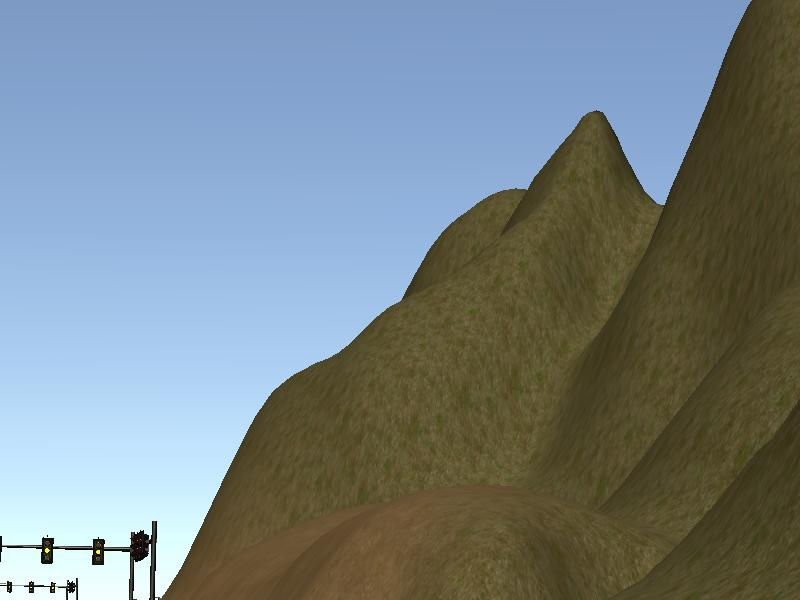yellow_light: (41, 538, 53, 565), (95, 540, 105, 562)
